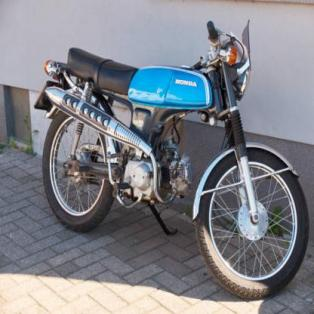Motocicleta: (34, 13, 312, 298)
